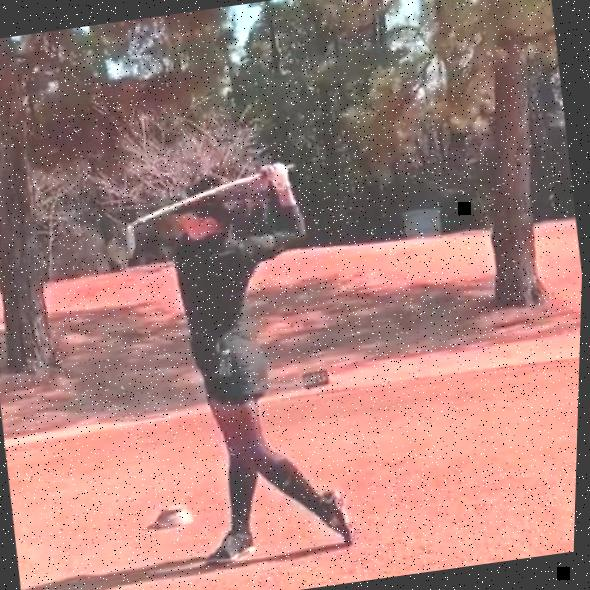ClubHead: (103, 223, 140, 264)
